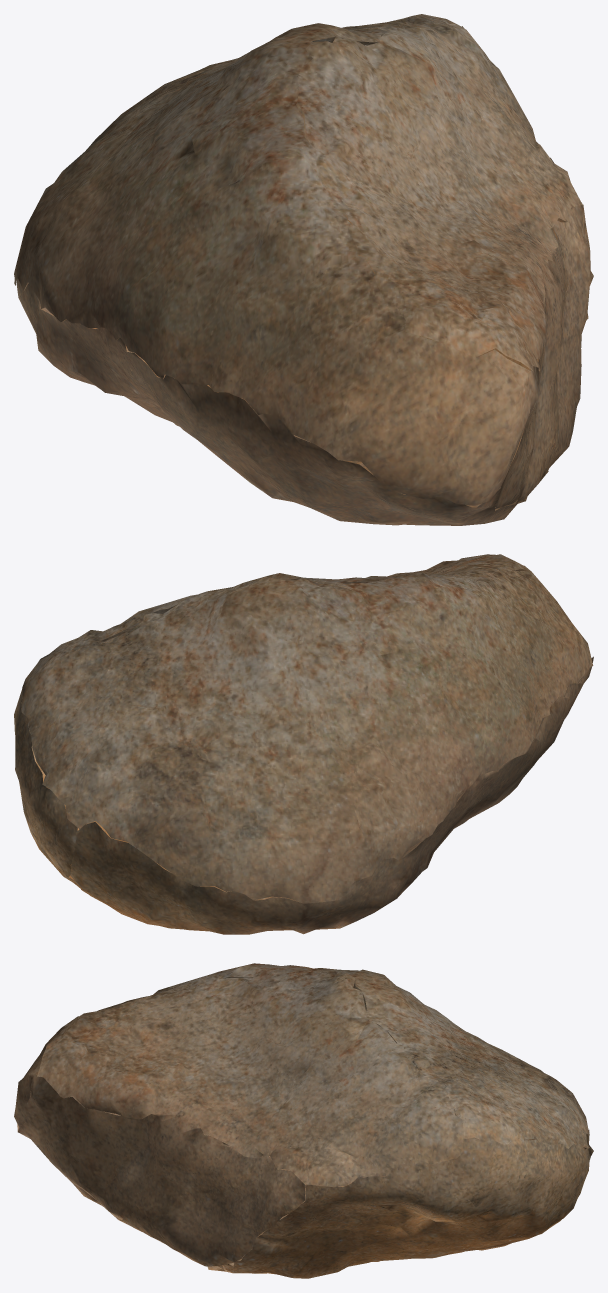
The model's file is SM_CinderScenery_Rock_A.fbx.
3 renders of one model, top to bottom at view 1: azimuth 30°, elevation 25°; view 2: azimuth 150°, elevation 25°; view 3: azimuth 270°, elevation 25°, orthographic. The views are drawn at different scales.
Parts seen in each view (by area): view 1: SM_CinderScenery_Rock_A; view 2: SM_CinderScenery_Rock_A; view 3: SM_CinderScenery_Rock_A.
Part boxes in pixels (left/top/right/bottom): SM_CinderScenery_Rock_A: left=14, top=14, right=593, bottom=525; SM_CinderScenery_Rock_A: left=14, top=554, right=593, bottom=934; SM_CinderScenery_Rock_A: left=14, top=963, right=593, bottom=1278.
Bounding box in the file's own units: 65.6 × 100 × 50.46.
